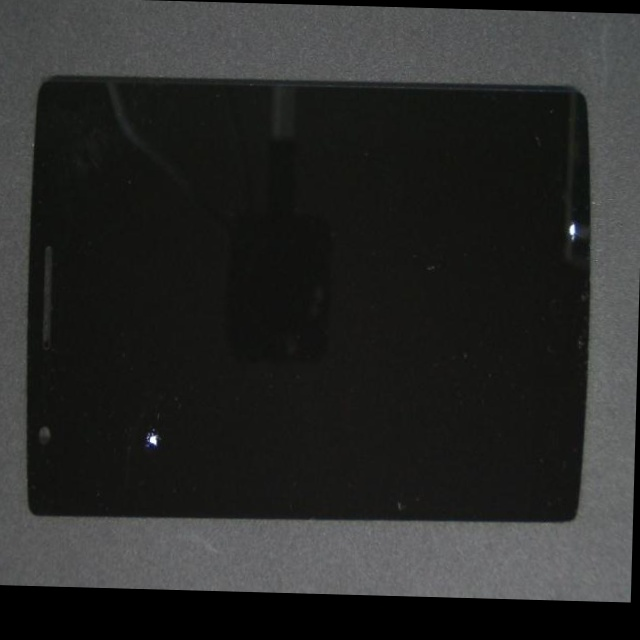stain: (272, 70, 640, 304), (59, 210, 238, 591)
